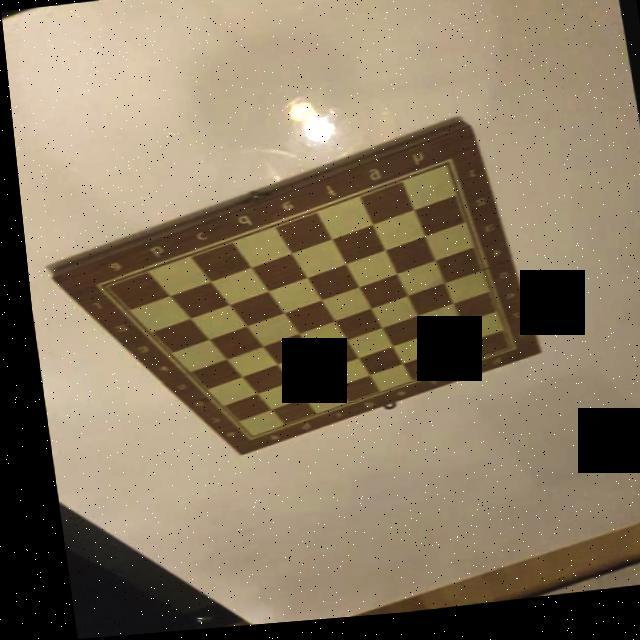chess-table-corners: (436, 159, 460, 177), (234, 432, 254, 449), (85, 278, 104, 292), (499, 350, 514, 360)
